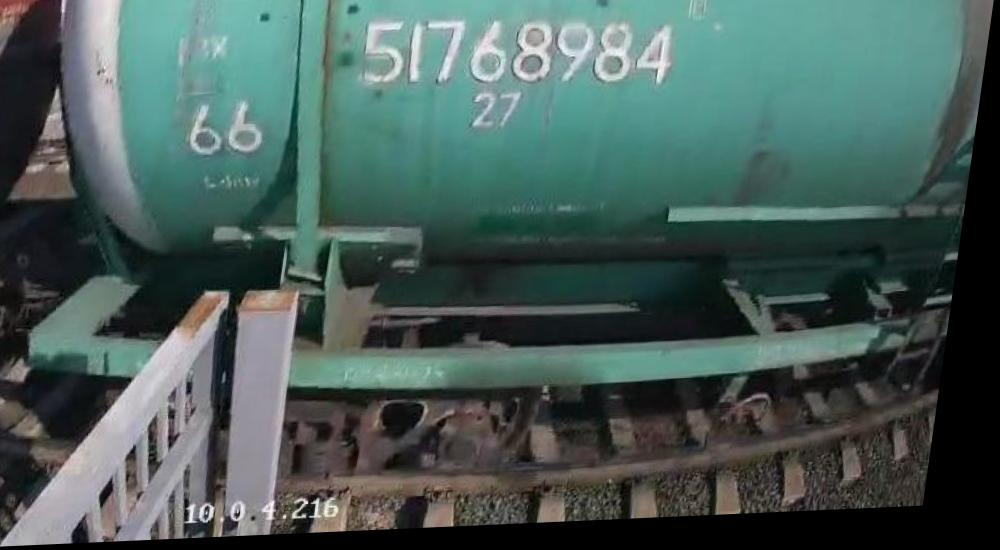Wagon-number: (355, 10, 685, 106)
